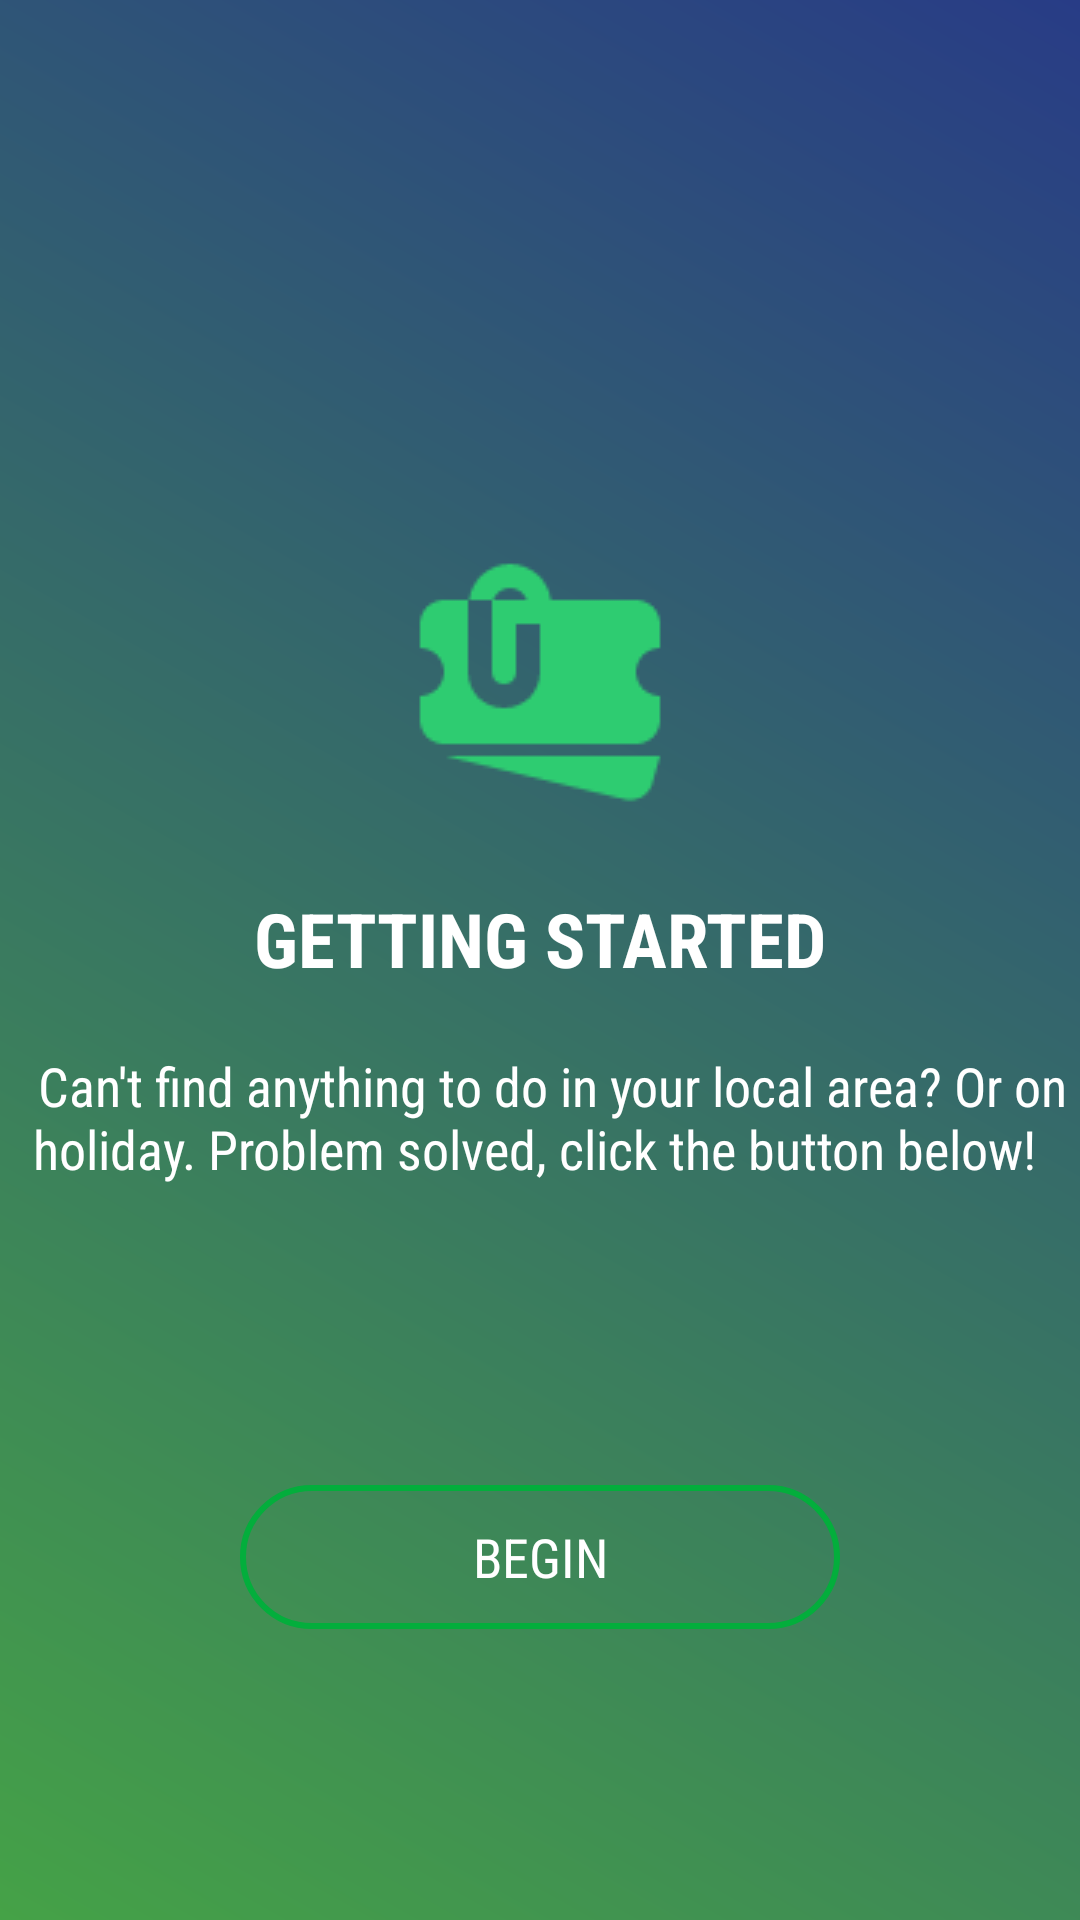

Named icons in this screenshot (1080*1920) and their centers, point (x, y):
tickettwo: point (540, 682)
